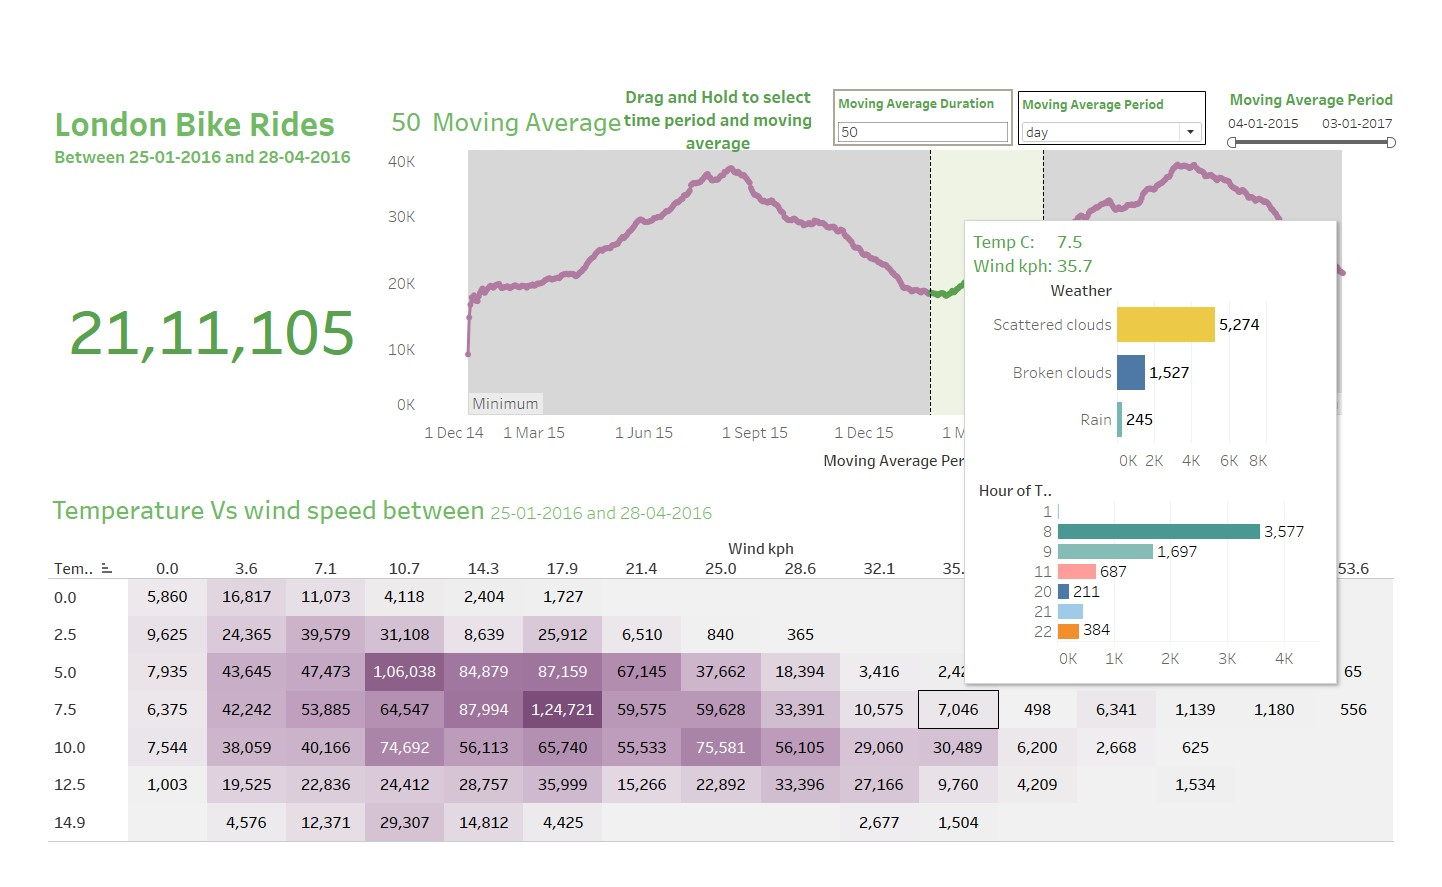

What the dashboard file says about the page in this screenshot:
{"tool":"tableau","page":{"name":"Dashboard 1","canvas":[1366,768],"ordinal":0},"visuals":[{"type":"parameter","param":"[Parameters].[Parameter 2]","box":[795,5,180,57]},{"type":"filter","title":"Moving Average","param":"[federated.0hxy6261gfx1dc13fv22s0brkqh2].[none:Calculation_814025675233157120:qk","box":[1185,5,177,71]},{"type":"parameter","param":"[Parameters].[Parameter 1]","box":[980,7,188,54]},{"type":"worksheet","title":"Sum of Rides","mark":"Automatic","box":[8,8,333,394]},{"type":"worksheet","title":"Moving Average","mark":"Automatic","rows":["Calculation1"],"cols":["Calculation_814025675233157120"],"box":[341,8,1017,394]},{"type":"worksheet","title":"HeatMap","mark":"Square","rows":["temp real C (bin)"],"cols":["Wind Speed Kph (bin)"],"box":[8,402,1350,358]}]}

Visuals, with their boxes on the page's 1366x768 design canvas (x1, y1, x2, y2). These are canvas units, not pixel positions in the 1442x887 screenshot, which may show the page scaled, cropped or inside an application window:
parameter: box(795, 5, 975, 62)
"Moving Average" filter: box(1185, 5, 1362, 76)
parameter: box(980, 7, 1168, 61)
"Sum of Rides" worksheet: box(8, 8, 341, 402)
"Moving Average" worksheet: box(341, 8, 1358, 402)
"HeatMap" worksheet (Square marks): box(8, 402, 1358, 760)
